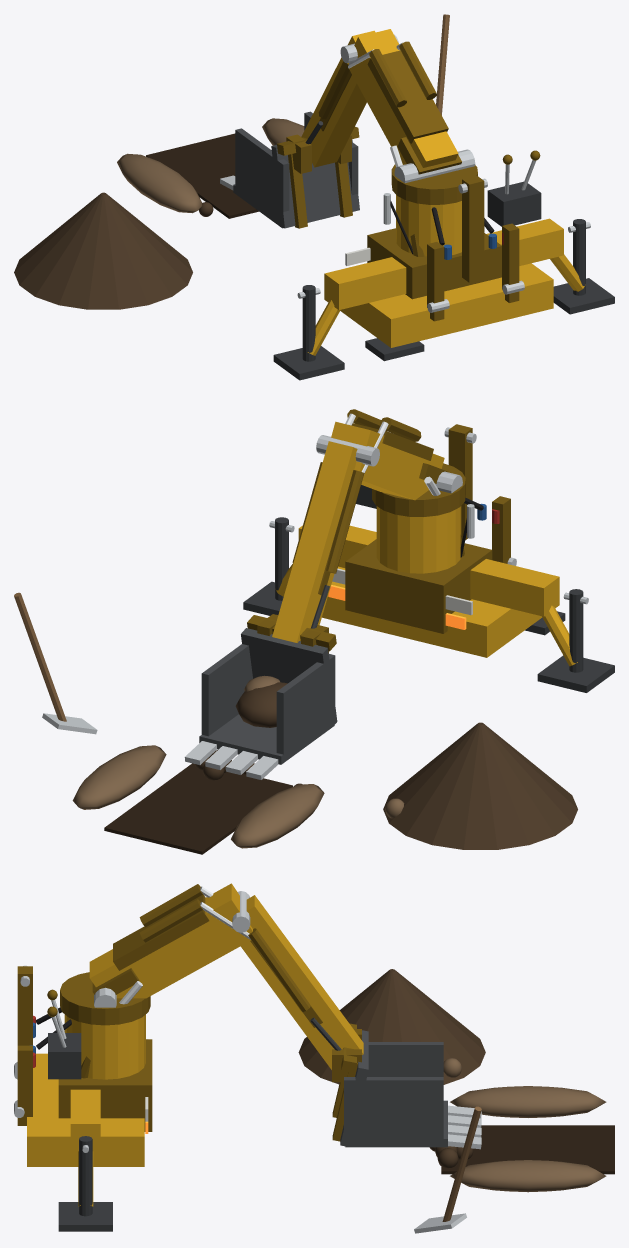
File: backhoe.glb
3 renders of one model, top to bottom at view 1: azimuth 30°, elevation 25°; view 2: azimuth 150°, elevation 25°; view 3: azimuth 270°, elevation 25°, orthographic. The views are drawn at different scales.
Parts seen in each view (by area): view 1: BackhoeFrame, DigProps, BackhoeBucket, BackhoeBoom, BackhoeStick; view 2: BackhoeFrame, DigProps, BackhoeBucket, BackhoeStick, BackhoeBoom; view 3: BackhoeFrame, DigProps, BackhoeBucket, BackhoeBoom, BackhoeStick.
Part boxes in pixels (x1,y1,x2,y2): BackhoeFrame: [273, 149, 614, 380]; DigProps: [14, 14, 449, 309]; BackhoeBucket: [220, 111, 359, 228]; BackhoeBoom: [340, 29, 461, 174]; BackhoeStick: [301, 30, 403, 167]; BackhoeFrame: [243, 424, 614, 692]; DigProps: [14, 592, 577, 854]; BackhoeBucket: [184, 614, 337, 779]; BackhoeStick: [272, 413, 388, 642]; BackhoeBoom: [316, 409, 448, 500]; BackhoeFrame: [14, 965, 152, 1231]; DigProps: [298, 969, 614, 1233]; BackhoeBucket: [332, 1023, 481, 1149]; BackhoeBoom: [89, 883, 252, 1004]; BackhoeStick: [200, 886, 363, 1069].
Bounding box in the file's own units: 3.7 × 1.9 × 3.98.
